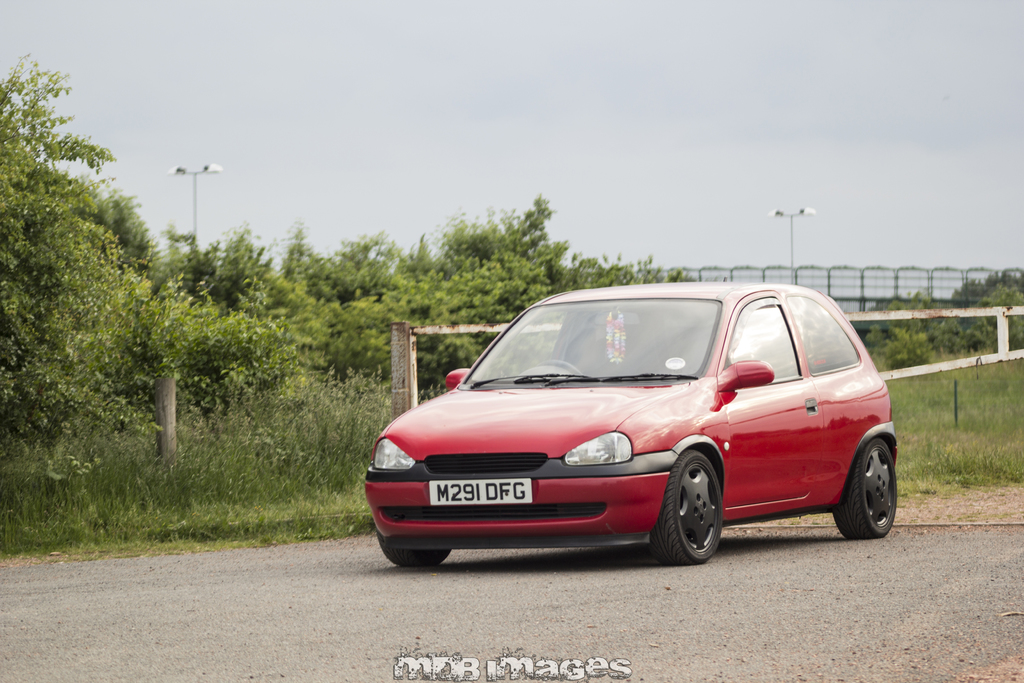Tree: (0, 40, 691, 469), (851, 271, 1023, 376)
